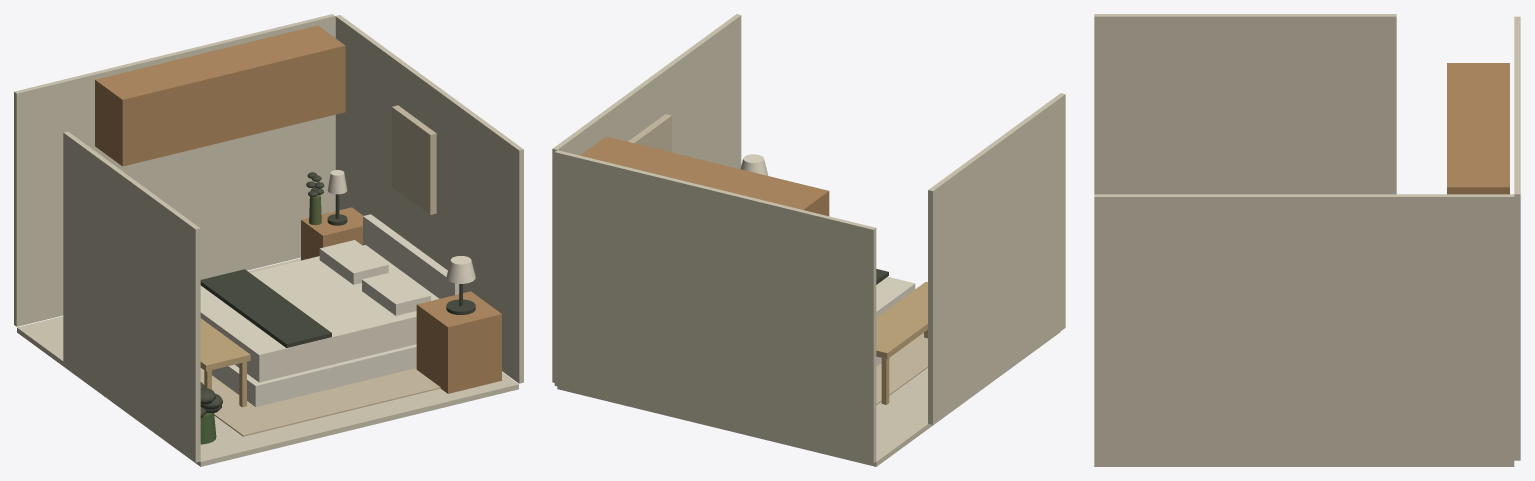
Rendered from room-proxy.glb.
3 renders of one model, left to right at view 1: azimuth 30°, elevation 25°; view 2: azimuth 150°, elevation 25°; view 3: azimuth 270°, elevation 25°, orthographic. The views are drawn at different scales.
Parts seen in each view (by area): view 1: proxy-back-wall, proxy-left-wall-after-entry, proxy-right-wall, REF-L01-R01-wall-cabinet-part-1, REF-L01-R01-bed-part-2, proxy-floor, REF-L01-R01-nightstand-front-part-1, REF-L01-R01-rug-part-1, REF-L01-R01-bed-part-1, REF-L01-R01-bed-part-6, REF-L01-R01-wall-art-part-1, REF-L01-R01-bed-part-3 (+5 smaller); view 2: proxy-back-wall, proxy-left-wall-after-entry, proxy-right-wall, REF-L01-R01-wall-cabinet-part-1, proxy-floor, REF-L01-R01-bench-part-1, REF-L01-R01-rug-part-1, REF-L01-R01-wall-art-part-1, REF-L01-R01-bed-part-2; view 3: proxy-right-wall, proxy-left-wall-after-entry, REF-L01-R01-wall-cabinet-part-1, proxy-back-wall, proxy-floor.
Part boxes in pixels (x1=…): proxy-back-wall: x1=14, y1=14, x2=334, y2=326; proxy-left-wall-after-entry: x1=63, y1=131, x2=200, y2=462; proxy-right-wall: x1=335, y1=15, x2=523, y2=383; REF-L01-R01-wall-cabinet-part-1: x1=95, y1=25, x2=345, y2=166; REF-L01-R01-bed-part-2: x1=200, y1=245, x2=439, y2=382; proxy-floor: x1=17, y1=258, x2=518, y2=466; REF-L01-R01-nightstand-front-part-1: x1=416, y1=291, x2=501, y2=393; REF-L01-R01-rug-part-1: x1=200, y1=368, x2=440, y2=436; REF-L01-R01-bed-part-1: x1=212, y1=344, x2=416, y2=406; REF-L01-R01-bed-part-6: x1=200, y1=269, x2=331, y2=347; REF-L01-R01-wall-art-part-1: x1=392, y1=105, x2=436, y2=214; REF-L01-R01-bed-part-3: x1=363, y1=214, x2=459, y2=298; proxy-back-wall: x1=554, y1=150, x2=876, y2=463; proxy-left-wall-after-entry: x1=928, y1=93, x2=1065, y2=424; proxy-right-wall: x1=552, y1=14, x2=741, y2=382; REF-L01-R01-wall-cabinet-part-1: x1=580, y1=136, x2=829, y2=216; proxy-floor: x1=557, y1=331, x2=1060, y2=466; REF-L01-R01-bench-part-1: x1=876, y1=282, x2=927, y2=359; REF-L01-R01-rug-part-1: x1=876, y1=333, x2=927, y2=404; REF-L01-R01-wall-art-part-1: x1=628, y1=114, x2=671, y2=152; REF-L01-R01-bed-part-2: x1=876, y1=277, x2=915, y2=317; proxy-right-wall: x1=1094, y1=194, x2=1514, y2=463; proxy-left-wall-after-entry: x1=1094, y1=14, x2=1396, y2=194; REF-L01-R01-wall-cabinet-part-1: x1=1447, y1=63, x2=1509, y2=194; proxy-back-wall: x1=1514, y1=16, x2=1520, y2=460; proxy-floor: x1=1094, y1=463, x2=1514, y2=466.
Bounding box in the file's own units: 1.03 × 0.7165 × 1.02.
